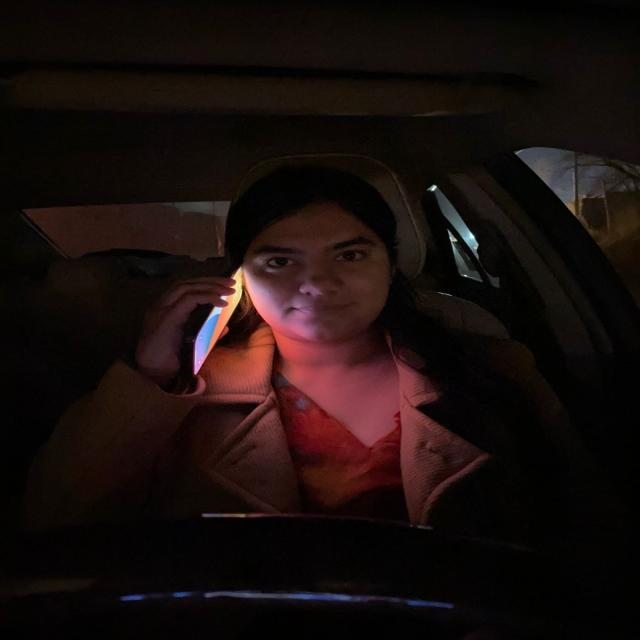mobile: (177, 268, 235, 385)
person: (240, 184, 412, 344)
